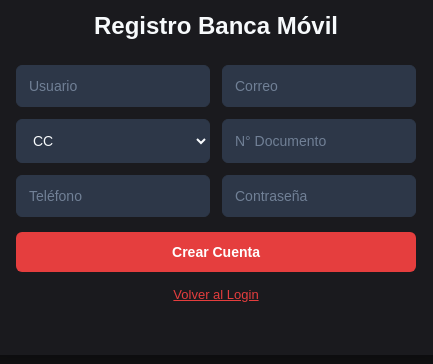
Register › muestra mensaje de error si el registro falla
Type "dup" into the field with placeholder "Usuario" at coordinates (113, 86), box [16,65,210,107]
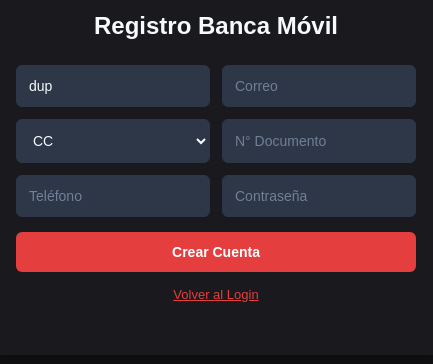
Type "dup@test.com" into the field with placeholder "Correo" at coordinates (319, 86), box [222,65,416,107]
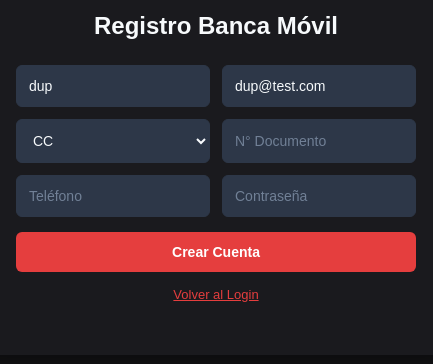
Type "000000" into the field with placeholder "N° Documento" at coordinates (319, 141), box [222,119,416,163]
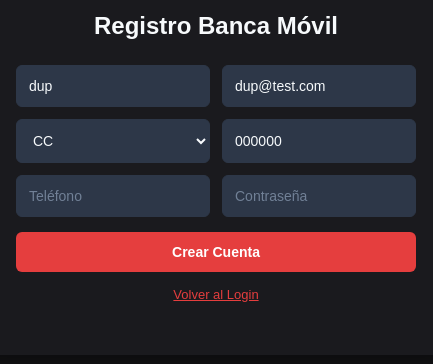
Type "3001112233" into the field with placeholder "Teléfono" at coordinates (113, 196), box [16,175,210,217]
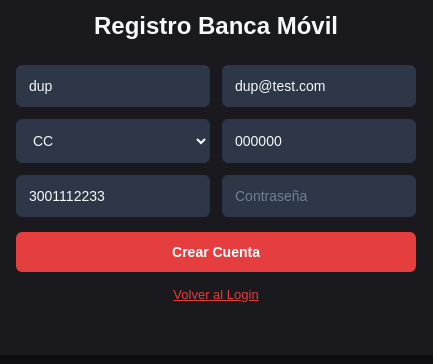
Type "anypass" into the password field with placeholder "Contraseña" at coordinates (319, 196), box [222,175,416,217]
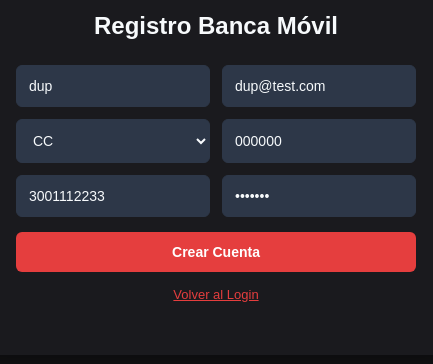
Click the button "Crear Cuenta" at coordinates (216, 252), box [16,232,416,272]
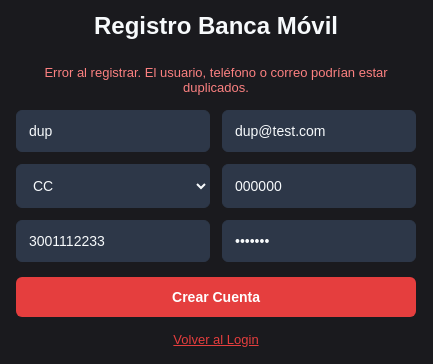
Result: the text "Error al registrar" is shown at [44,65,388,95]
